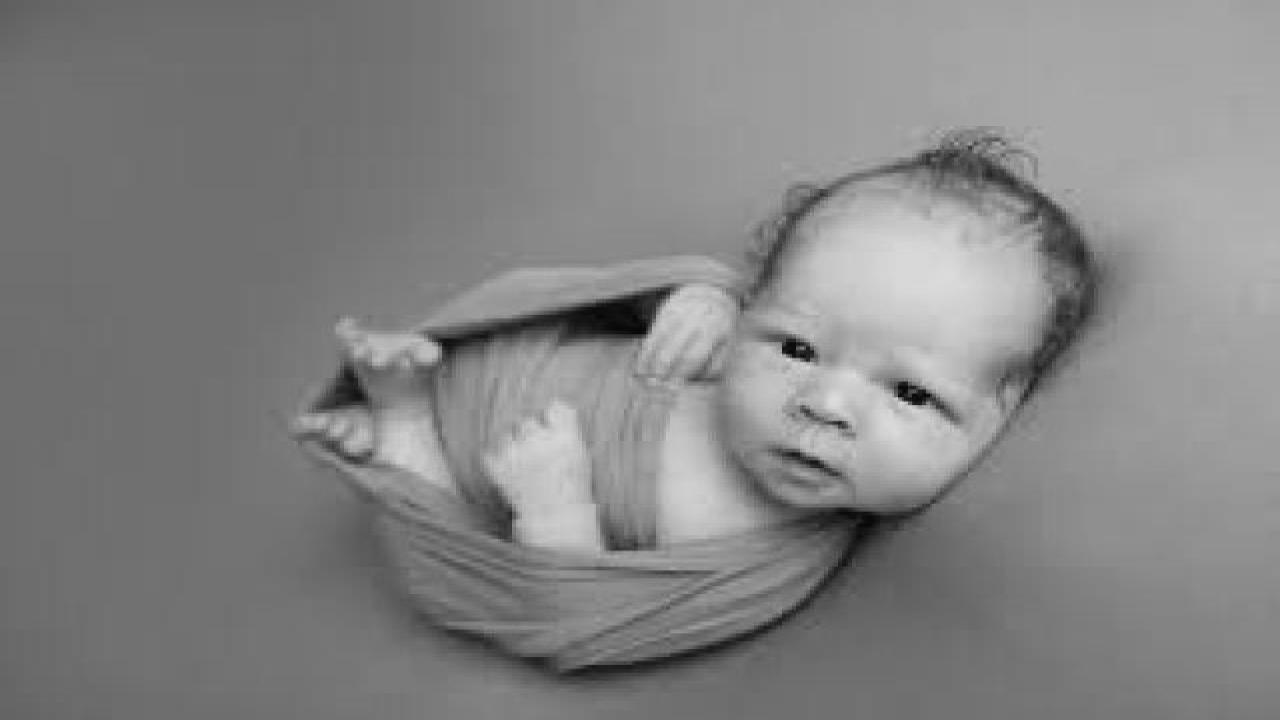hand: (480, 400, 598, 500), (620, 299, 740, 391)
